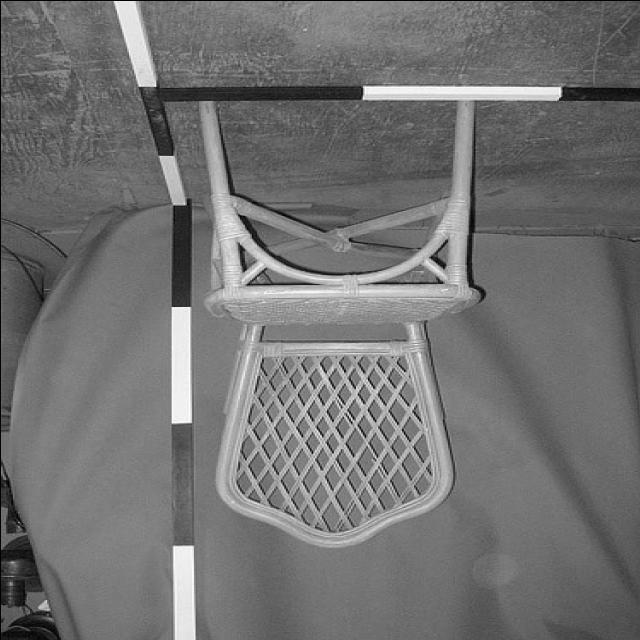chair: (190, 101, 484, 548)
